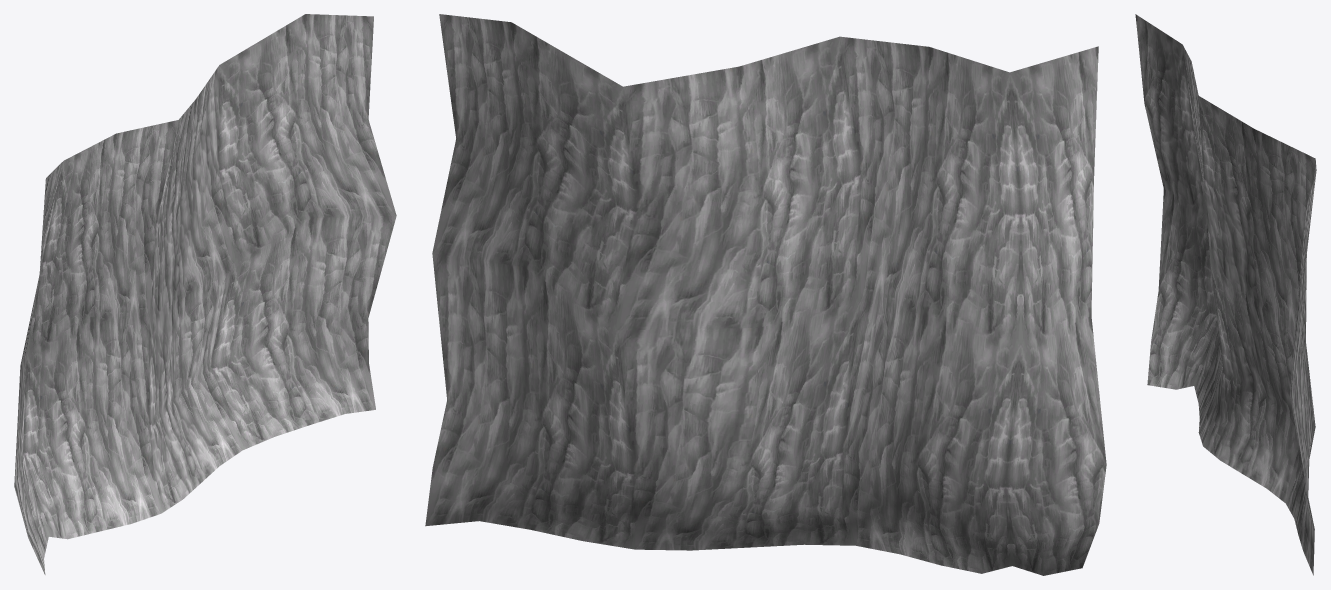
Rendered from SWORDLIGHT20_PS-AREA03_182.fbx.
3 views of the same model, side by side, from view 1: azimuth 30°, elevation 25°; view 2: azimuth 150°, elevation 25°; view 3: azimuth 270°, elevation 25° (orthographic). The views are drawn at different scales.
Parts seen in each view (by area): view 1: SWORDLIGHT20_PS-AREA03_182; view 2: SWORDLIGHT20_PS-AREA03_182; view 3: SWORDLIGHT20_PS-AREA03_182.
Boxes of the visible parts, x1,y1,x2,y2 form: SWORDLIGHT20_PS-AREA03_182: (14,14,396,574); SWORDLIGHT20_PS-AREA03_182: (425,14,1106,575); SWORDLIGHT20_PS-AREA03_182: (1135,14,1316,575).
Size of the model in its own units: 231019 by 199912 by 87495.
Materials: 1 (1 with a texture image).
